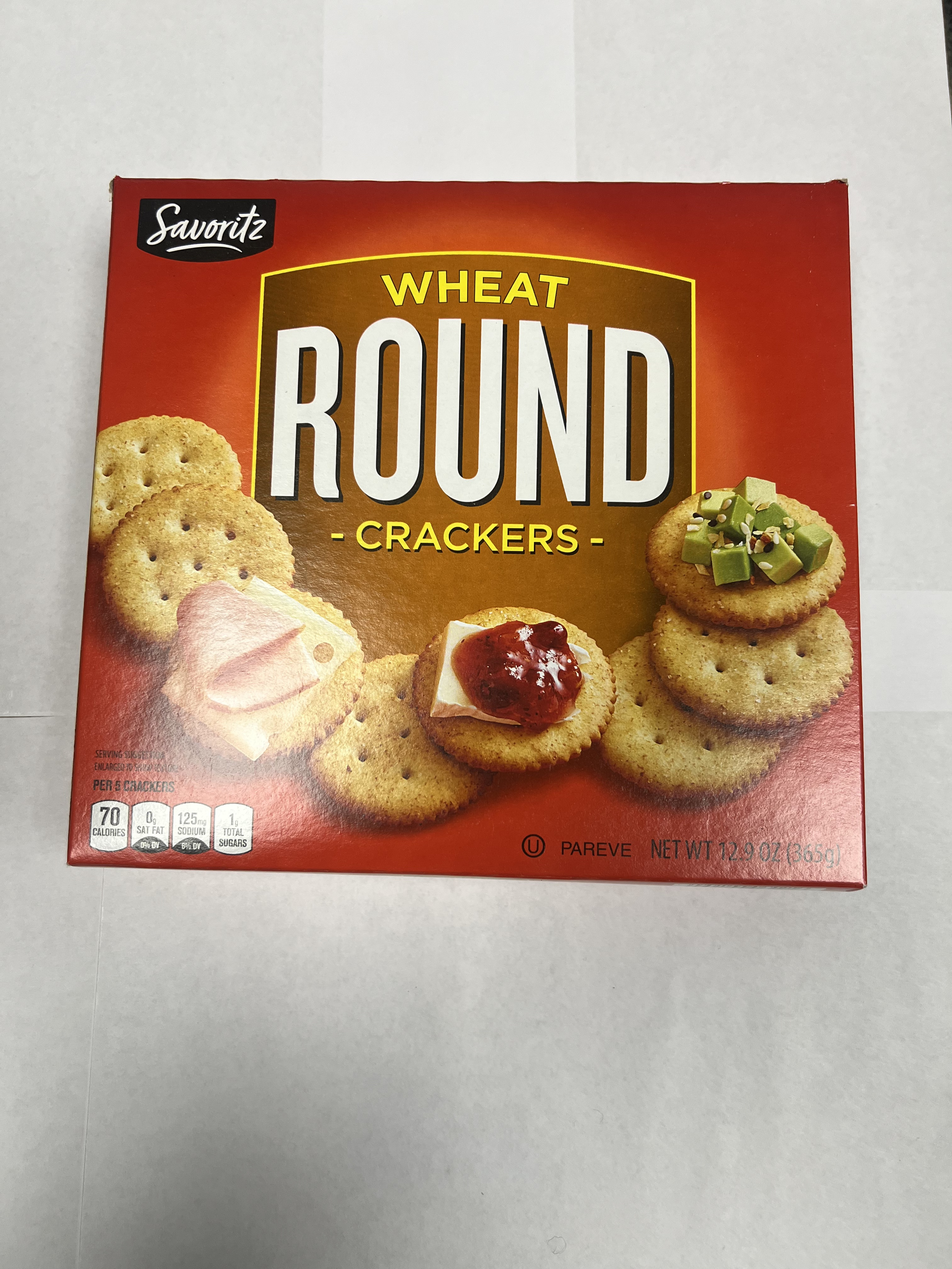packaged: (64, 171, 873, 895)
